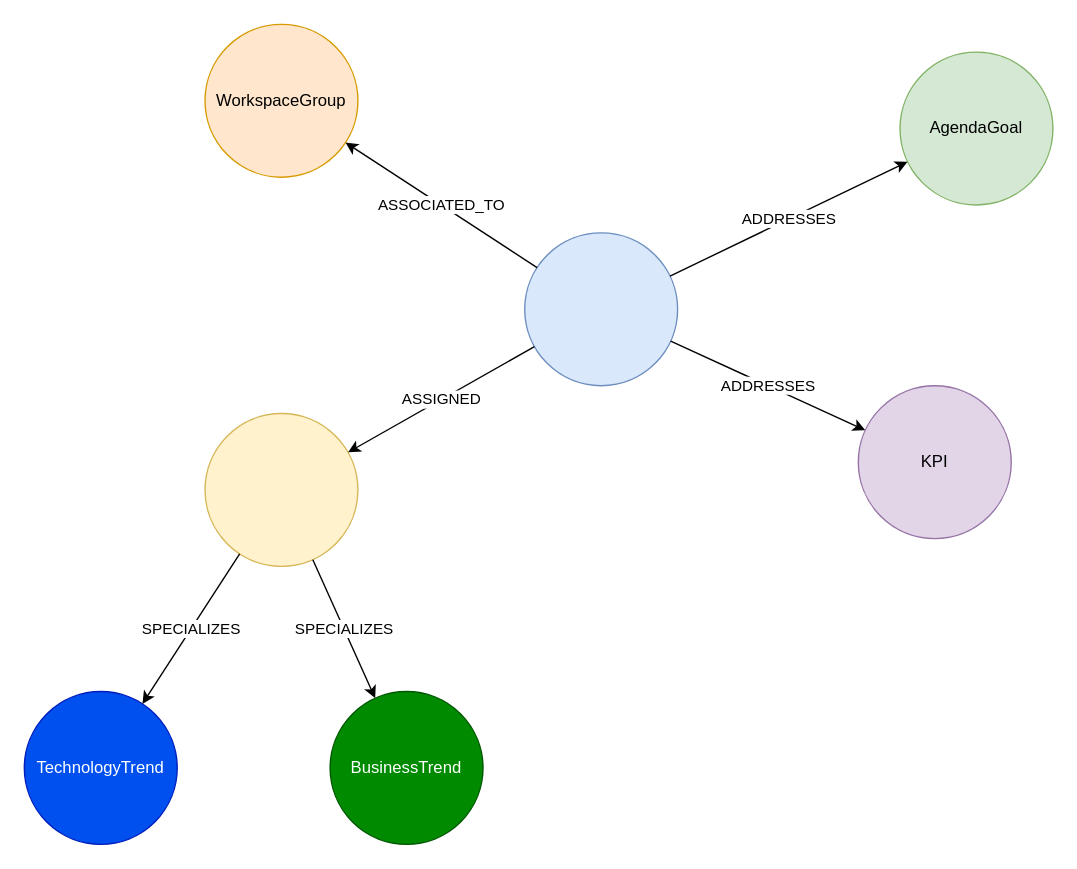
Image size: 1077x869. Some labels were removed from this diagram. Here are the shapes that lost their labels. From the top down, the box of each, then its label:
(523, 231, 678, 386): ClientIdea
(204, 412, 358, 566): ClientDisruptor
